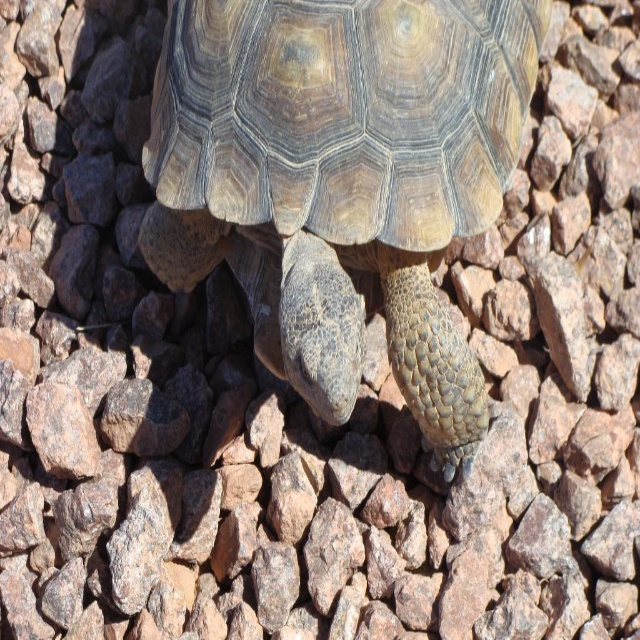Sea turtle: (139, 0, 554, 491)
